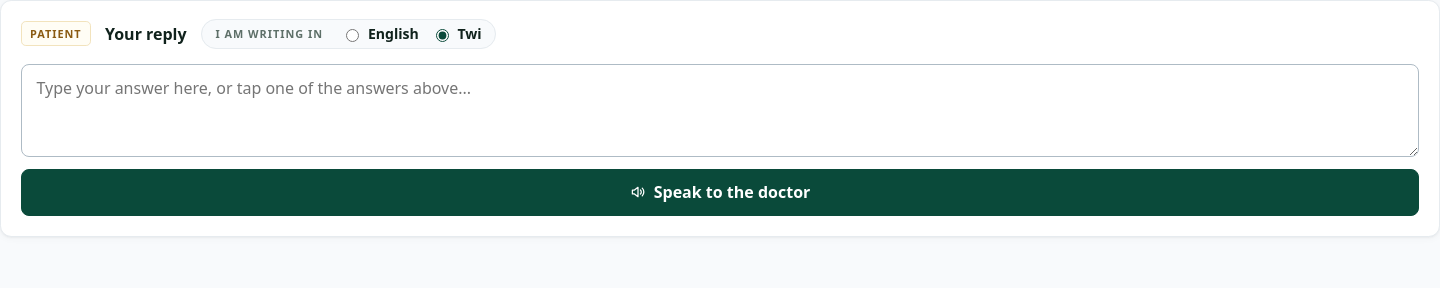
PatientReply › says why nothing was spoken instead of doing nothing
Click the button "Speak to the doctor" at (720, 192), box x1=21 y1=169 x2=1419 y2=216
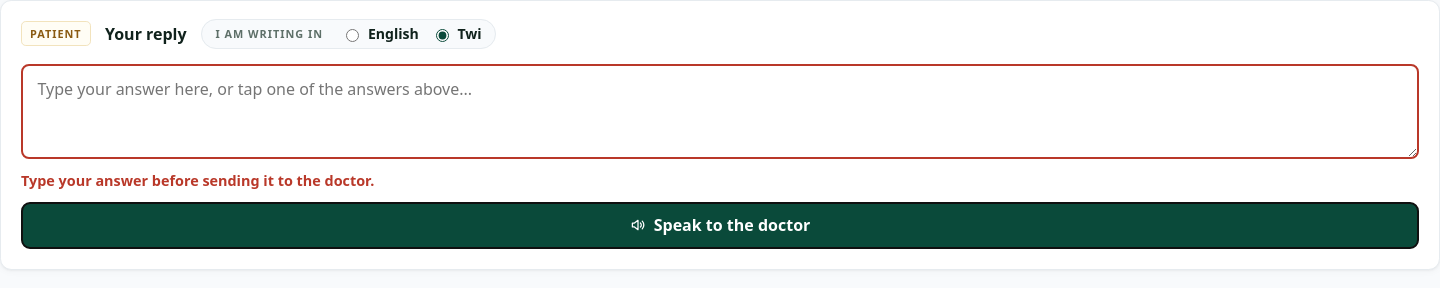
Check: the message "Type your answer before sending it to the doctor." is shown, box x1=21 y1=171 x2=374 y2=190
